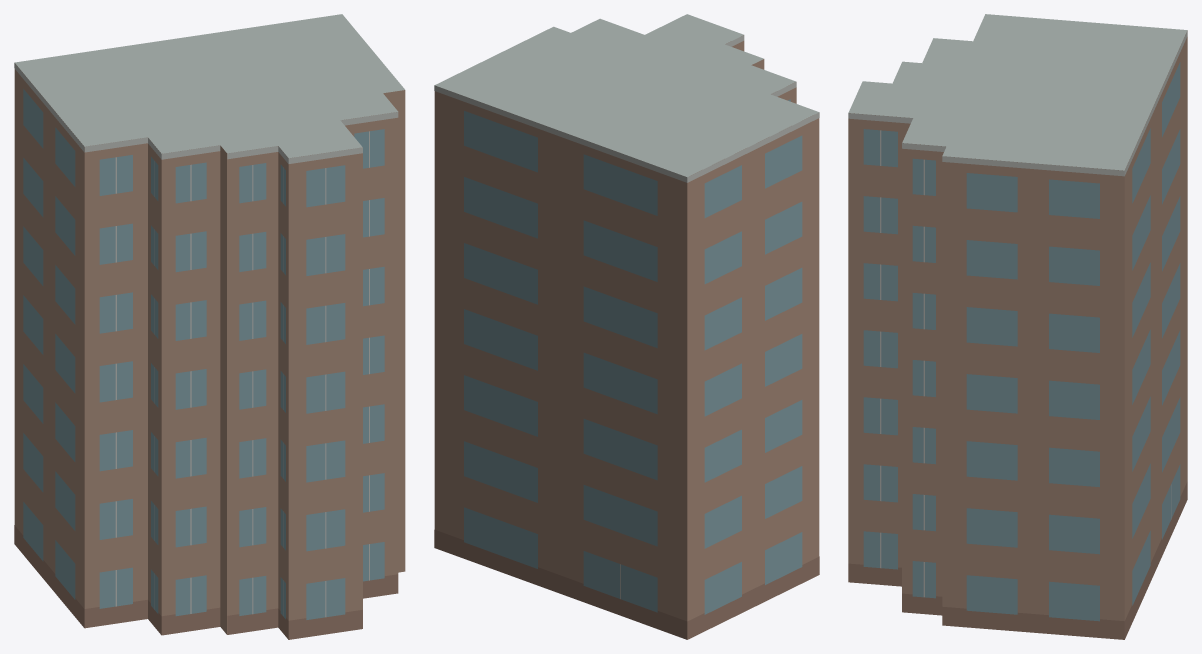
Rendered from survey-upis-32666178.glb.
The picture shows the model from 3 angles, left to right: view 1: azimuth 30°, elevation 25°; view 2: azimuth 150°, elevation 25°; view 3: azimuth 270°, elevation 25°; orthographic projection. The views are drawn at different scales.
Visible parts, largest first — view 1: survey-upis-32666178.tmp; view 2: survey-upis-32666178.tmp; view 3: survey-upis-32666178.tmp.
Boxes of the visible parts, box(x1,y1,x2,y2) form: survey-upis-32666178.tmp: box(14, 14, 405, 639); survey-upis-32666178.tmp: box(434, 14, 819, 639); survey-upis-32666178.tmp: box(848, 14, 1187, 639).
Bounding box in the file's own units: 14.25 × 19.9 × 13.05.
